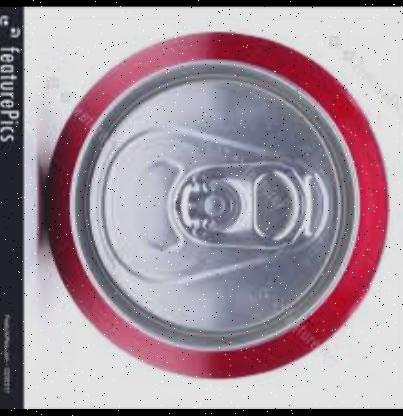Can: (39, 30, 388, 382)
